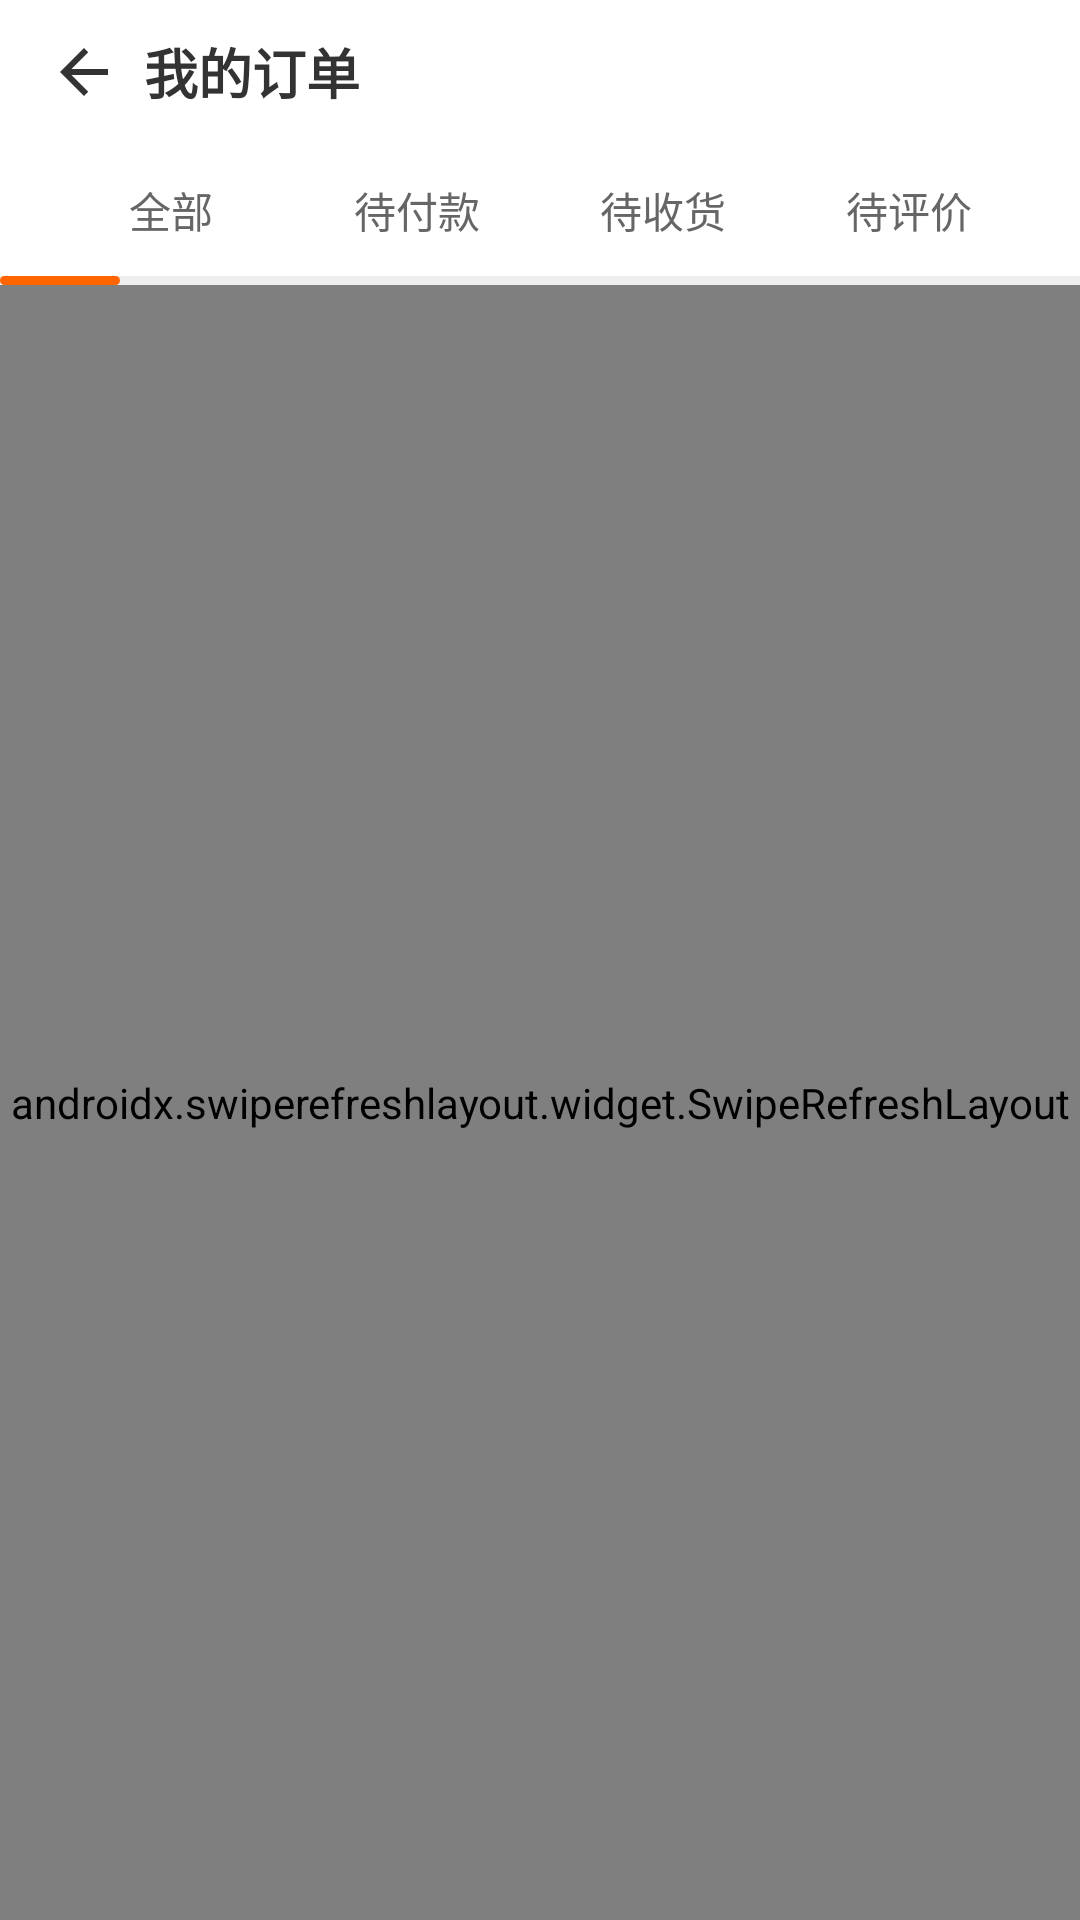

Icons on this 1080w x 1920h Android screen, each with the point to tap as (x=x, y=y):
arrow back: (x=84, y=72)
